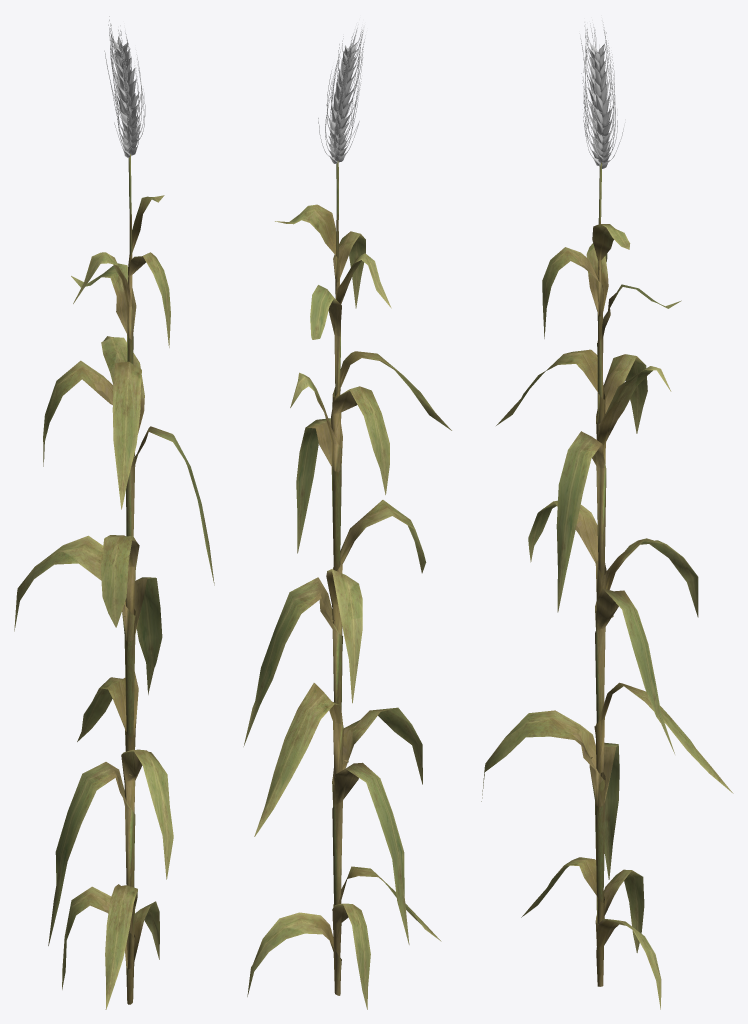
The model's file is SM_Plant_06.fbx.
3 renders of one model, left to right at view 1: azimuth 30°, elevation 25°; view 2: azimuth 150°, elevation 25°; view 3: azimuth 270°, elevation 25°, orthographic. The views are drawn at different scales.
Visible parts, largest first — view 1: SM_Plant_06; view 2: SM_Plant_06; view 3: SM_Plant_06.
Boxes of the visible parts, left/top/right/bottom form: SM_Plant_06: left=14, top=16, right=214, bottom=1009; SM_Plant_06: left=243, top=24, right=451, bottom=1009; SM_Plant_06: left=481, top=20, right=733, bottom=1009.
Size of the model in its own units: 17.87 by 28.79 by 121.
